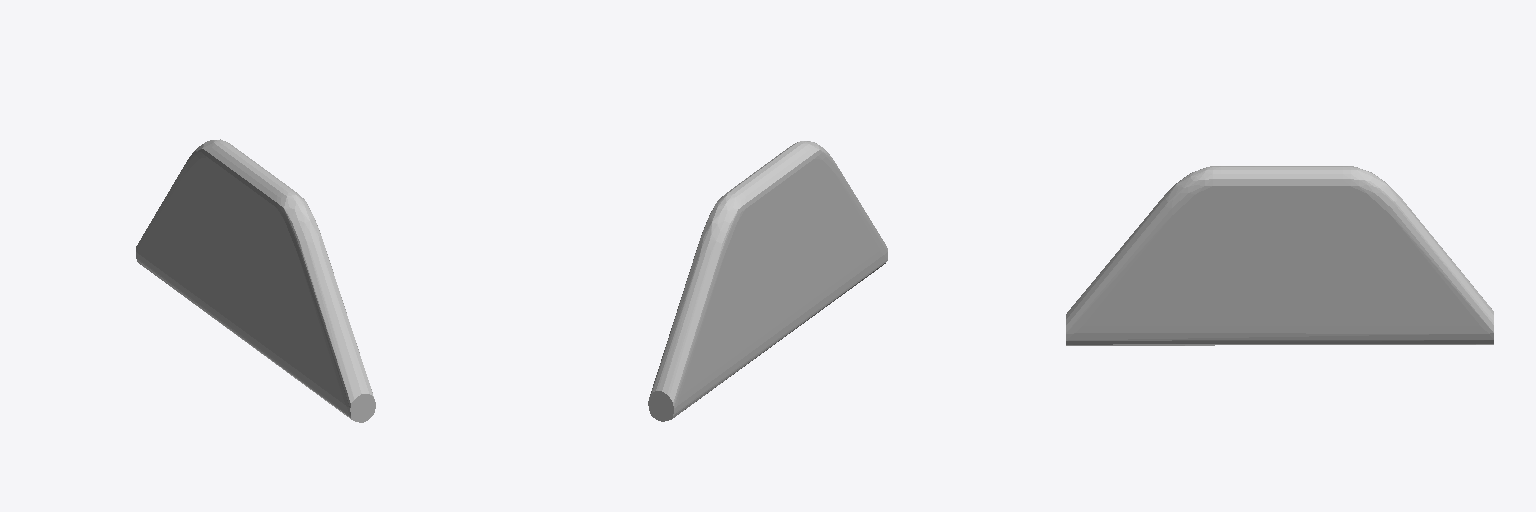
Rendered from dish_rack_collision_19.obj.
The picture shows the model from 3 angles: view 1: azimuth 30°, elevation 25°; view 2: azimuth 150°, elevation 25°; view 3: azimuth 270°, elevation 25°; orthographic projection.
Size of the model in its own units: 0.0086 by 0.0561 by 0.1231.